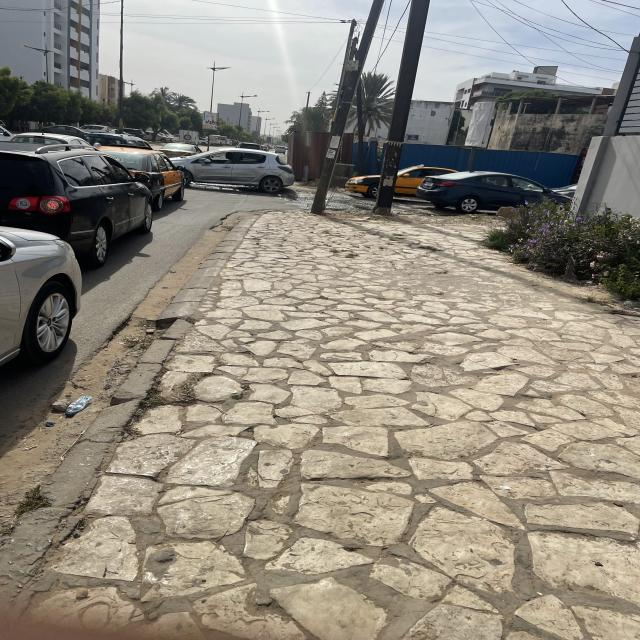particulier: (4, 141, 156, 265), (2, 223, 87, 377), (424, 171, 577, 217), (171, 149, 302, 195)
taxi: (90, 145, 188, 213), (347, 166, 474, 206)
